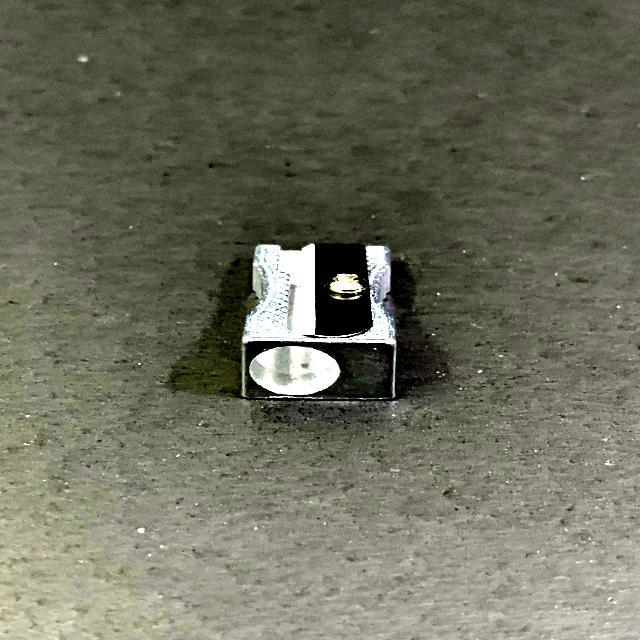Sharpner: (203, 220, 440, 422)
